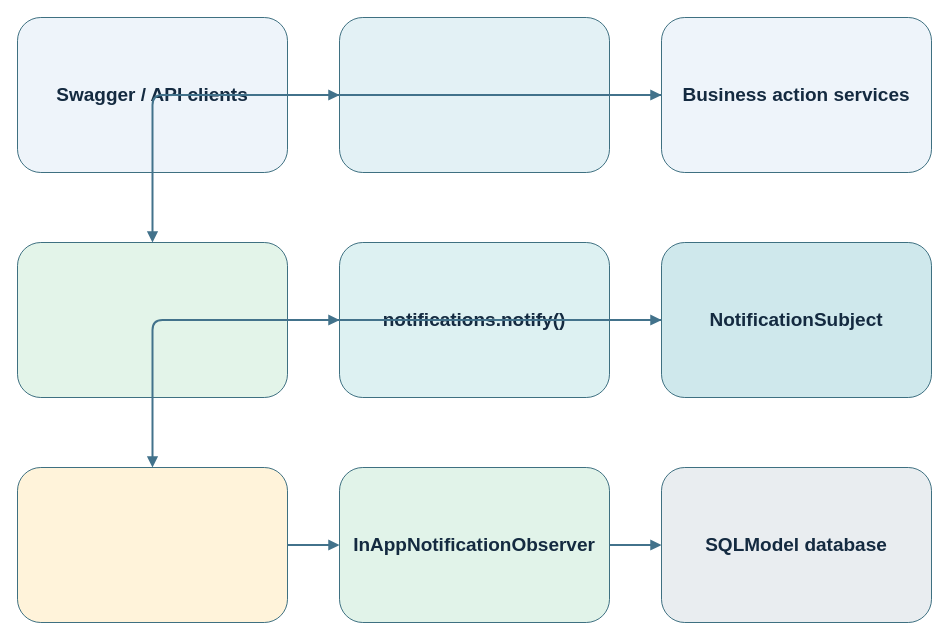
The diagram is 949 pixels wide and 640 high, and some of its shapes have lost their labels. Here are the shapes that lost their labels. From the top down, the centre of each, then its label:
At (x=474, y=94): "FastAPI routers".
At (x=152, y=320): "Verified recipient policy".
At (x=152, y=544): "RetryObserver".
